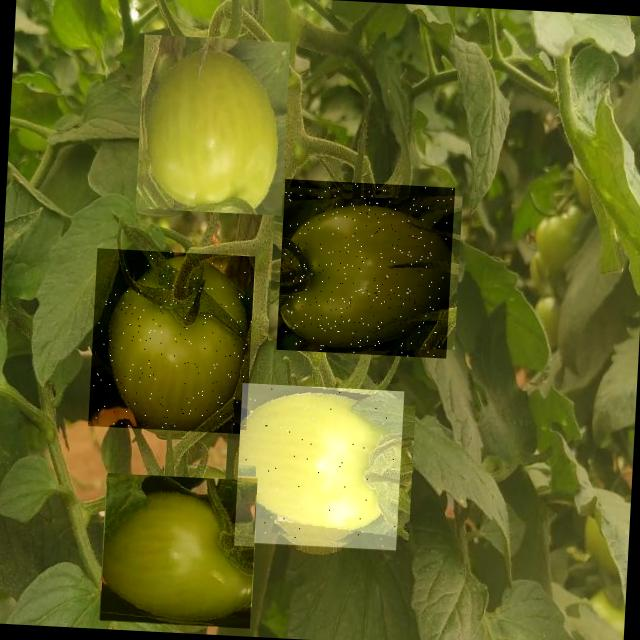Unripe Tomato: (276, 179, 455, 359), (88, 248, 255, 434), (234, 384, 404, 554), (136, 34, 290, 216), (100, 473, 258, 629)
